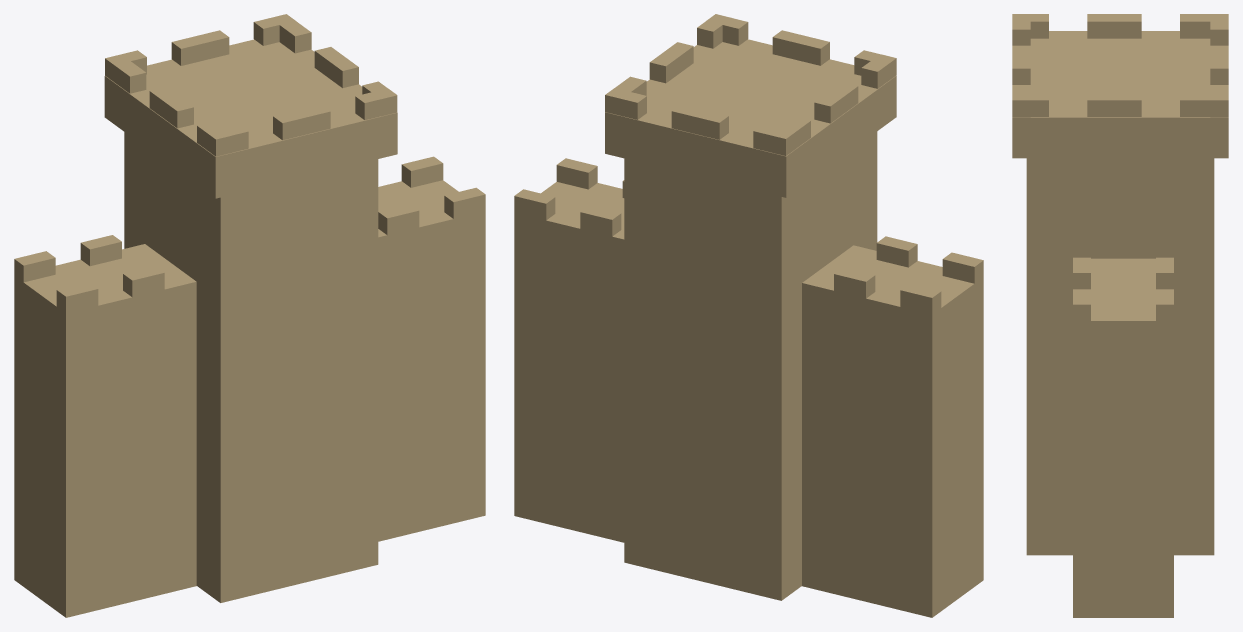
Rendered from jumper_walltower_B.FBX.
3 renders of one model, left to right at view 1: azimuth 30°, elevation 25°; view 2: azimuth 150°, elevation 25°; view 3: azimuth 270°, elevation 25°, orthographic. The views are drawn at different scales.
Parts seen in each view (by area): view 1: Box202, Box216, Box233, Box203, Box206, Box208, Box214, Box211, Box226, Box232, Box229, Box220 (+9 smaller); view 2: Box202, Box216, Box233, Box203, Box206, Box208, Box211, Box214, Box204, Box205, Box220, Box229 (+9 smaller); view 3: Box202, Box233, Box203, Box211, Box214, Box213, Box210, Box206, Box208, Box205, Box207, Box209 (+7 smaller).
Boxes of the visible parts, x1,y1,x2,y2 form: Box202: (124,132,378,602); Box216: (14,244,196,617); Box233: (378,180,485,541); Box203: (104,39,397,198); Box206: (171,30,229,65); Box208: (273,104,330,140); Box214: (149,87,193,128); Box211: (314,47,358,88); Box226: (56,282,98,313); Box232: (401,156,443,187); Box229: (444,187,485,218); Box220: (80,235,121,266); Box202: (624,131,877,600); Box216: (802,245,983,617); Box233: (514,182,624,542); Box203: (605,39,896,197); Box206: (671,104,728,139); Box208: (772,30,829,65); Box211: (649,42,693,83); Box214: (814,82,858,123); Box204: (753,124,795,155); Box205: (605,88,646,119); Box220: (834,267,875,298); Box229: (556,158,597,189); Box202: (1026,158,1214,555); Box233: (1073,258,1173,617); Box203: (1012,31,1228,158); Box211: (1087,92,1141,116); Box214: (1087,14,1141,38); Box213: (1180,14,1216,38); Box210: (1180,92,1216,116); Box206: (1210,45,1228,84); Box208: (1012,45,1030,84); Box205: (1210,85,1228,117); Box207: (1012,85,1030,117); Box209: (1012,14,1030,45).
Size of the model in its own units: 256 by 276 by 117.
